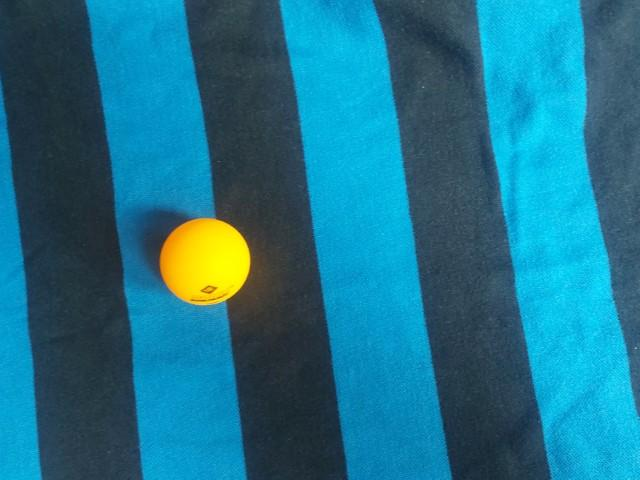oball: (385, 171, 483, 268)
